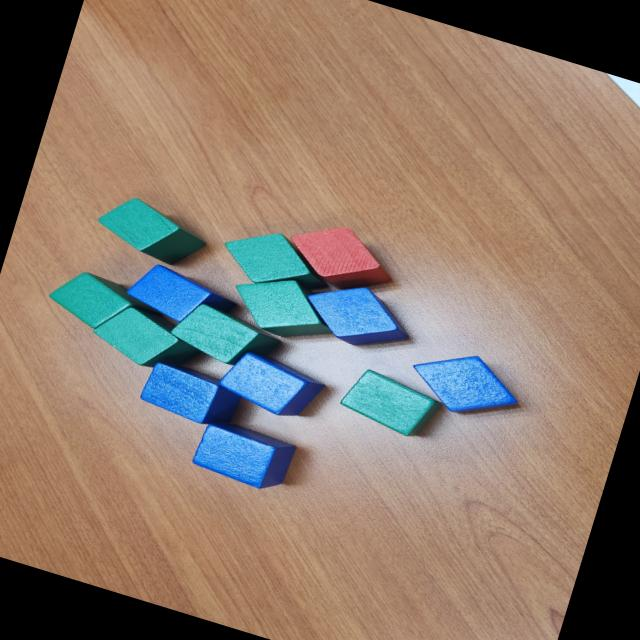blue: (403, 339, 528, 430), (296, 271, 419, 360), (209, 342, 329, 427), (119, 257, 241, 338), (188, 414, 298, 494), (266, 319, 378, 397), (136, 356, 246, 432), (176, 346, 238, 385)
green: (214, 216, 340, 304), (84, 296, 208, 382), (41, 262, 166, 347), (90, 188, 214, 273), (224, 264, 344, 350), (164, 295, 284, 377), (334, 363, 446, 443)
red: (278, 213, 402, 303)
